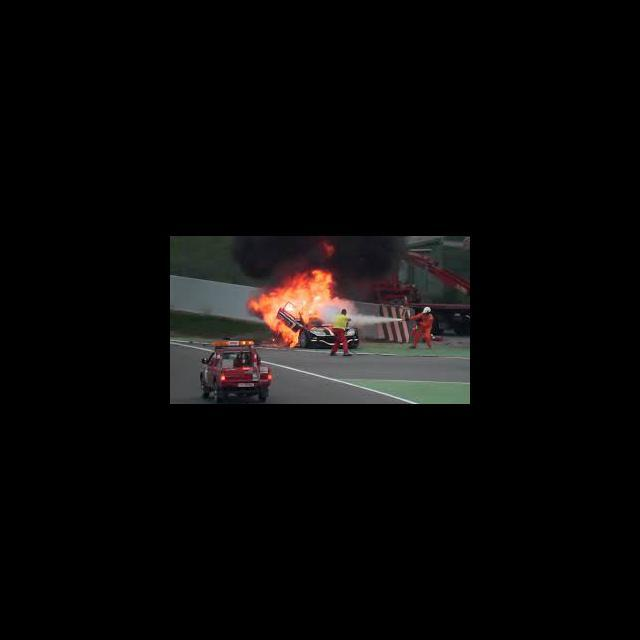Fire: (247, 268, 357, 350), (318, 240, 338, 258)
Smoke: (230, 238, 314, 268), (342, 236, 407, 265)
